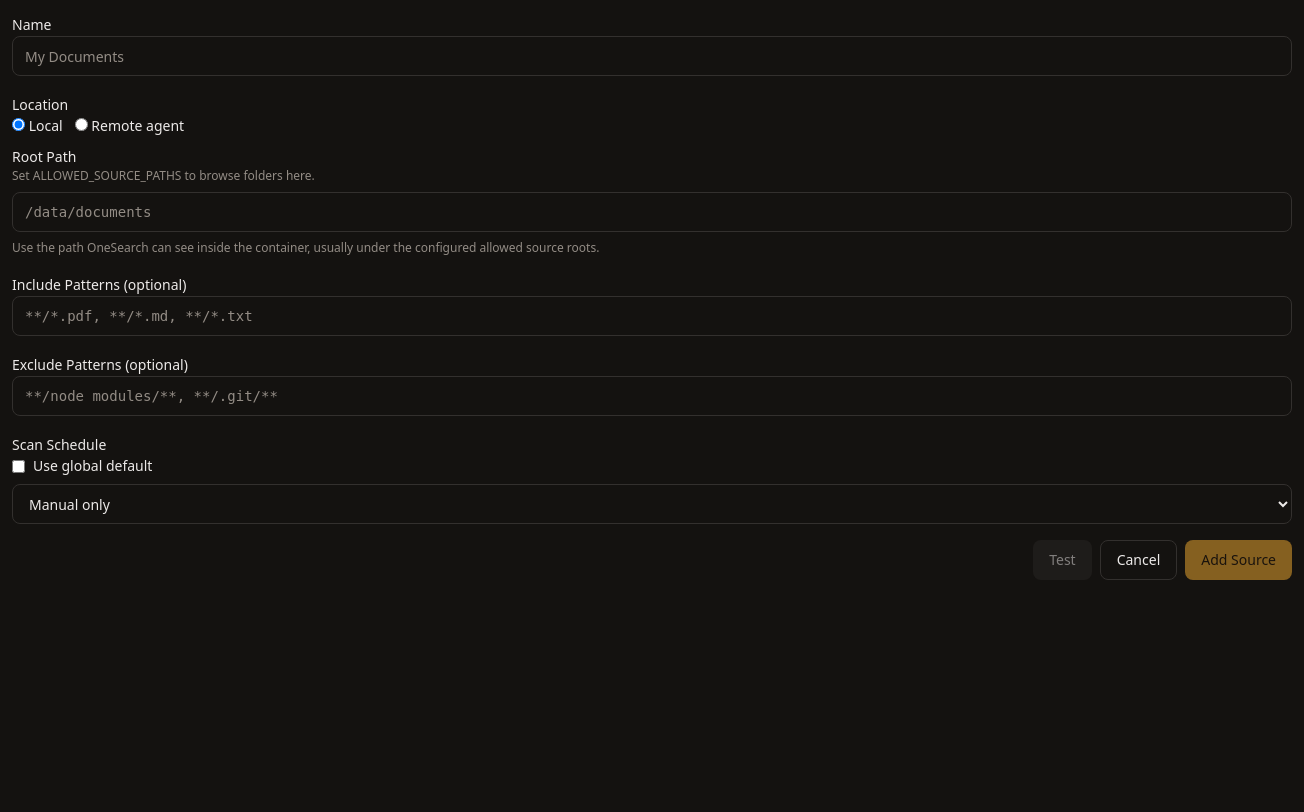
SourceForm remote source flow › announces local validation failure as an alert
In the field labelled "Root Path": (652, 212) [12,192,1292,232], type "/data/missing"
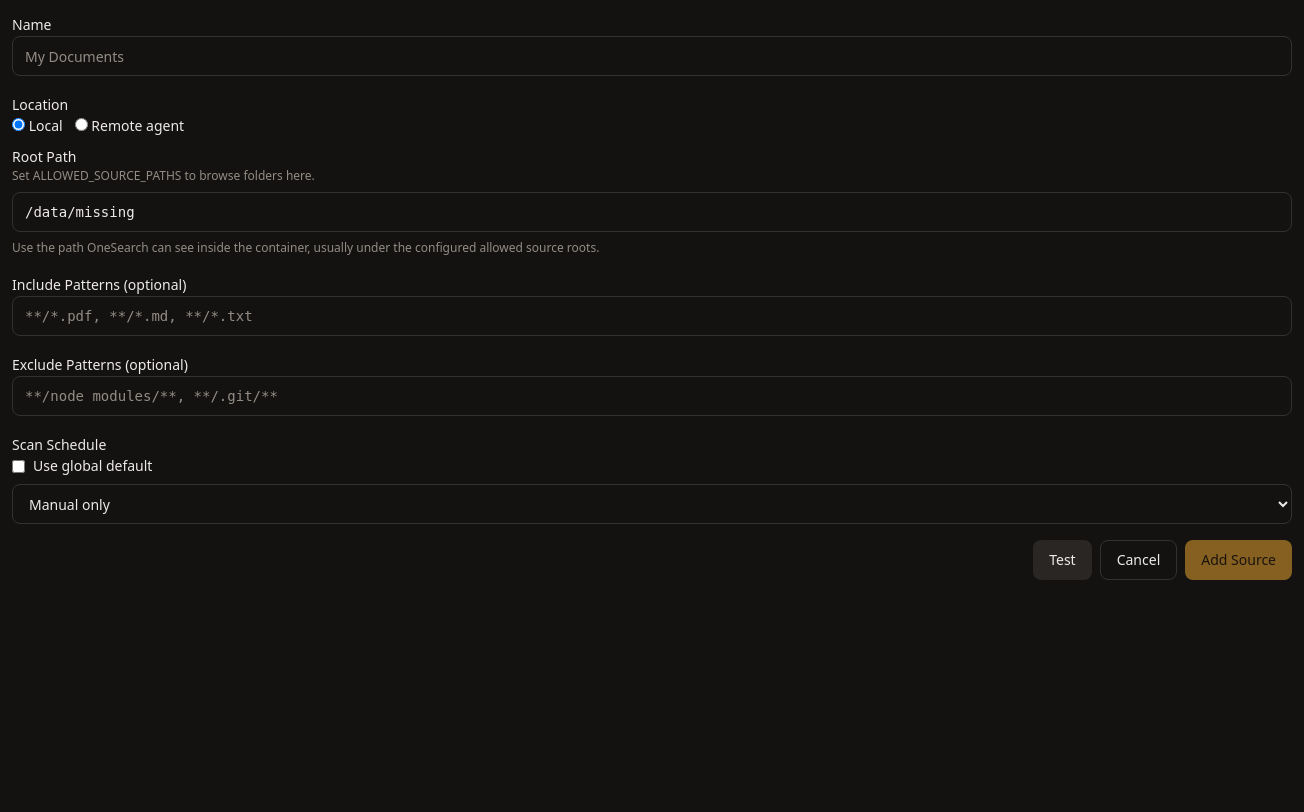
Click the button "Test": click(1062, 560) [1033,540,1092,580]
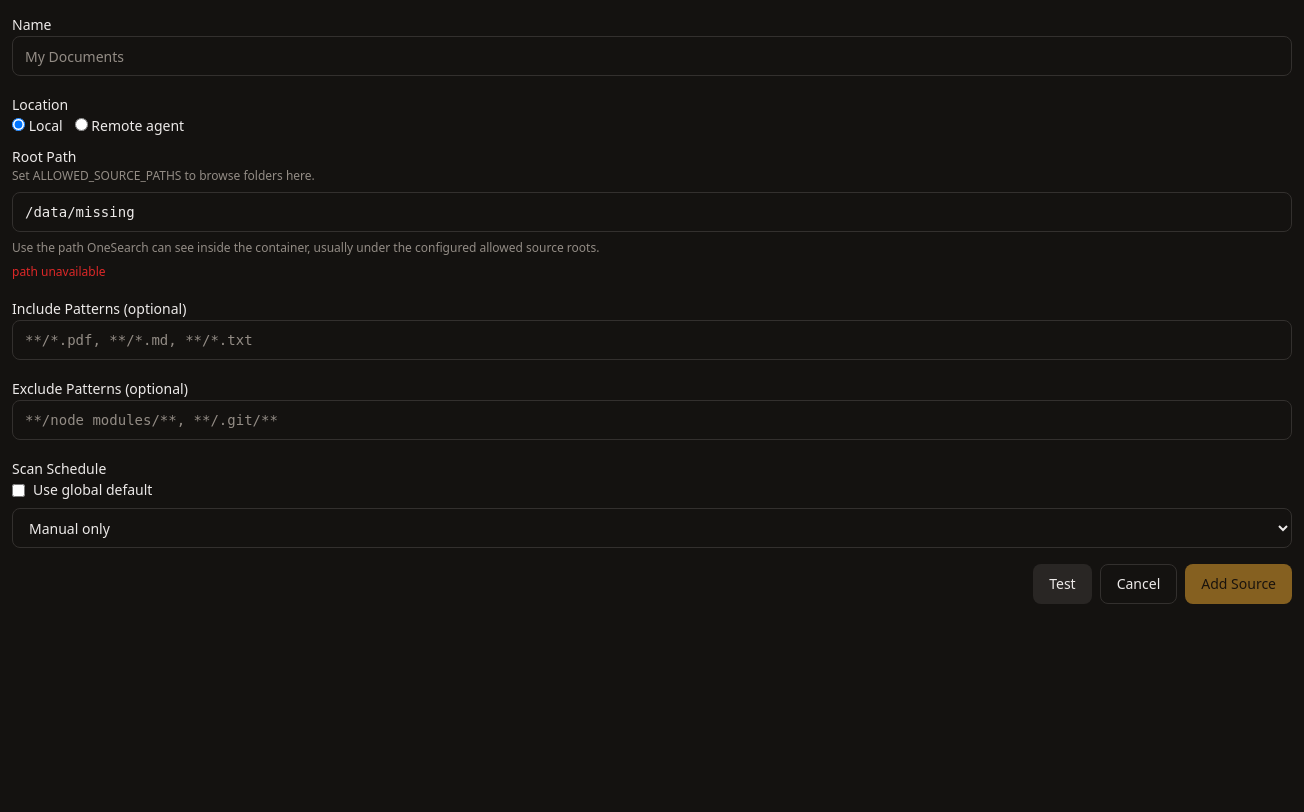
Expected: the message reads "path unavailable", [12,263,106,280]
